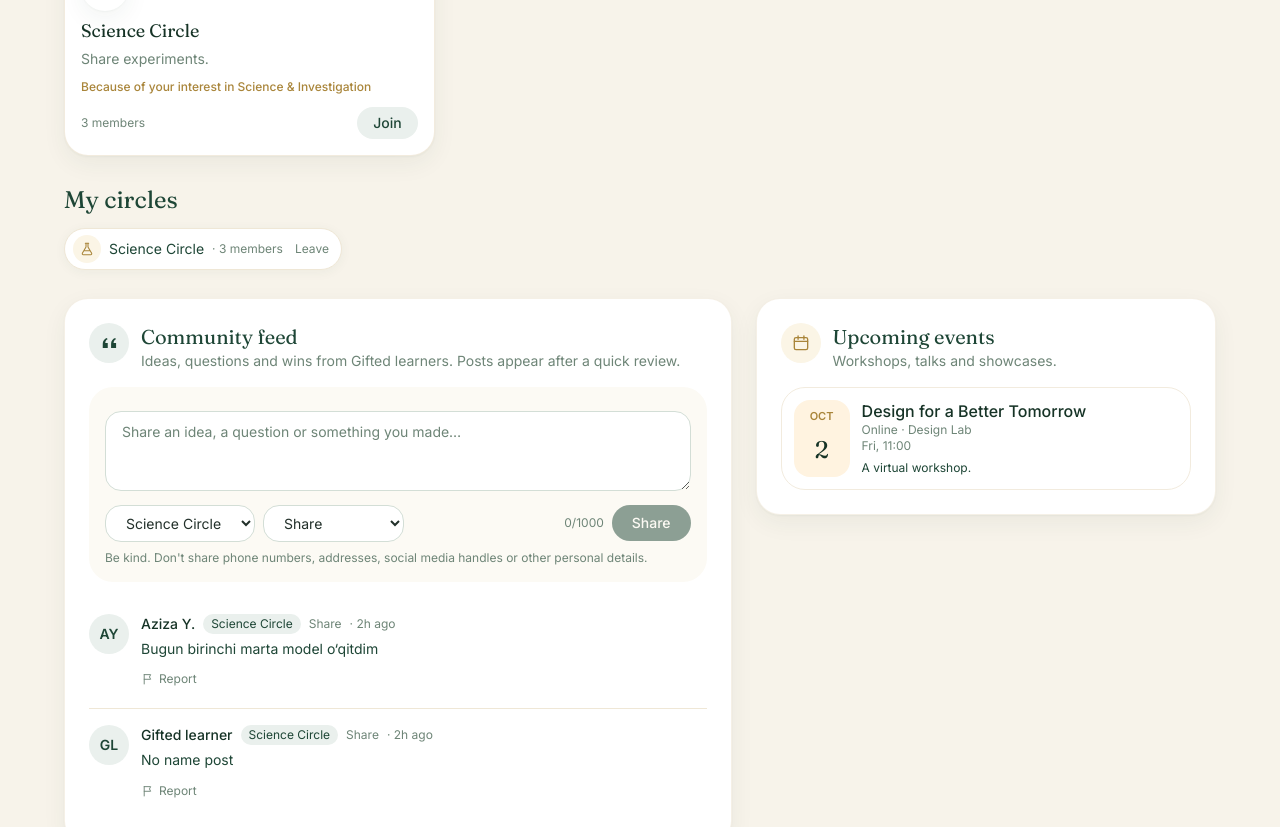
Scenario: Community › new posts wait for review; reports send a reason
This screenshot has width=1280, height=827.
(page scrolled)
Type "My idea" into the text box with placeholder "Share an idea, a question or something you made…". click: (398, 450)
box: [105,410,691,490]
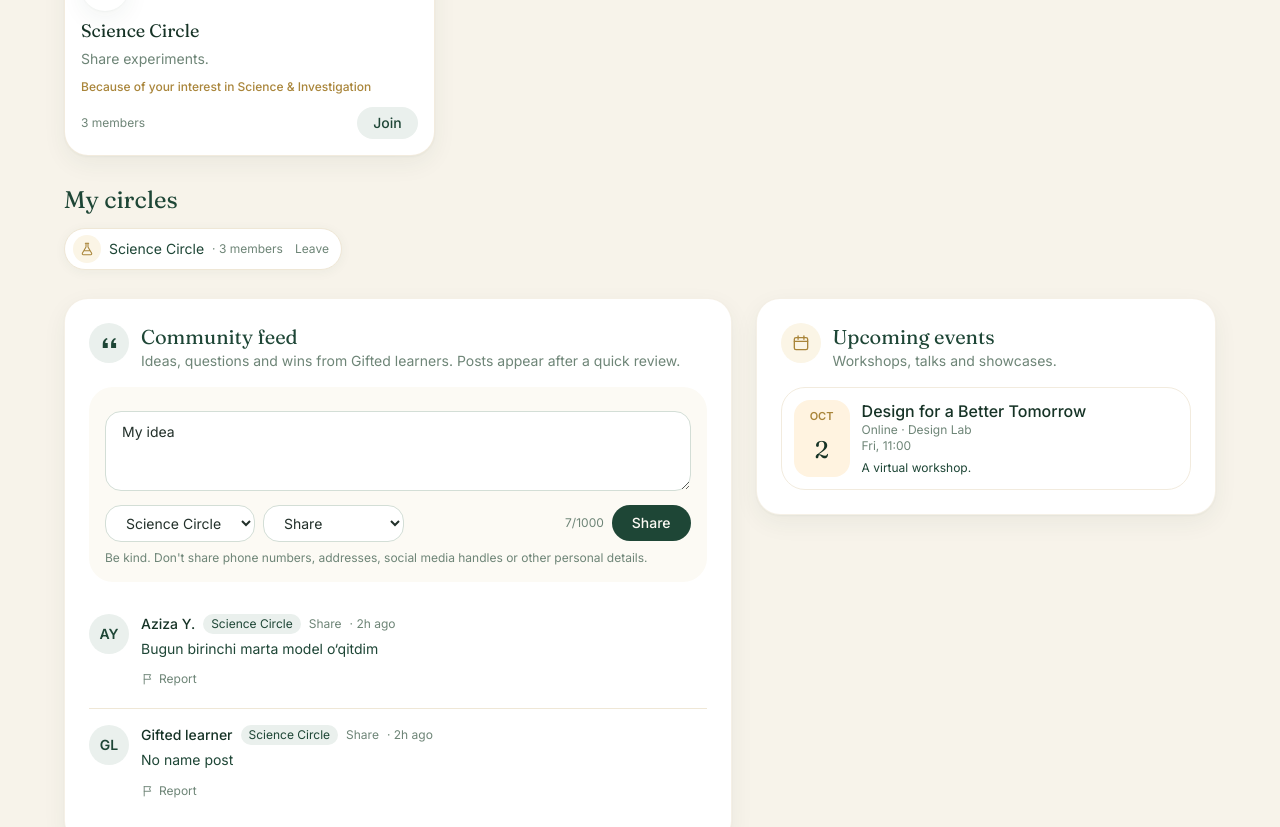
Click the button "Share". click: (651, 523)
box: [612,505,691,541]
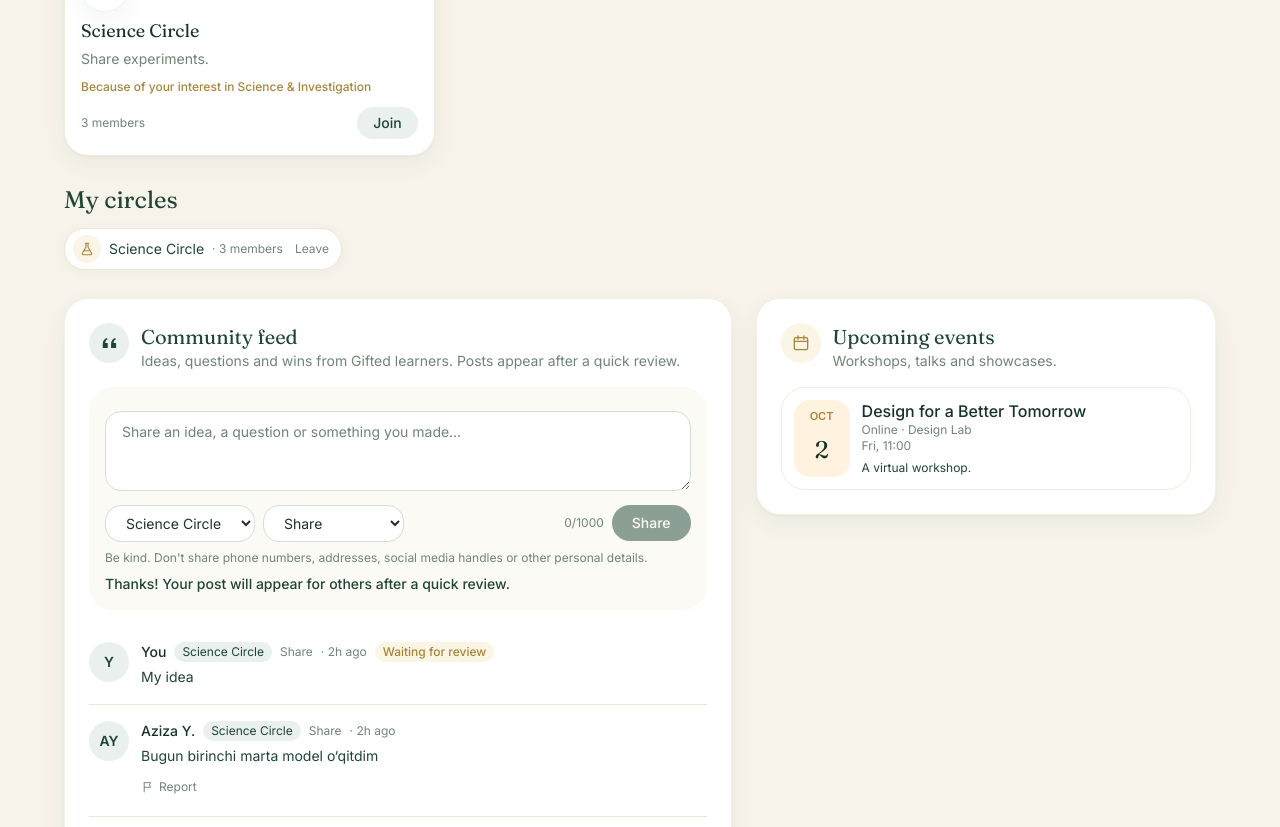
Check: the text "Waiting for review" is shown, box [375,642,494,662]
Check: the text "Thanks! Your post will appear for others after a quick review." is shown, box [105,574,510,592]
Click the button "Report" below "Bugun birinchi marta model o‘qitdim". click: (169, 787)
box: [141,779,197,795]
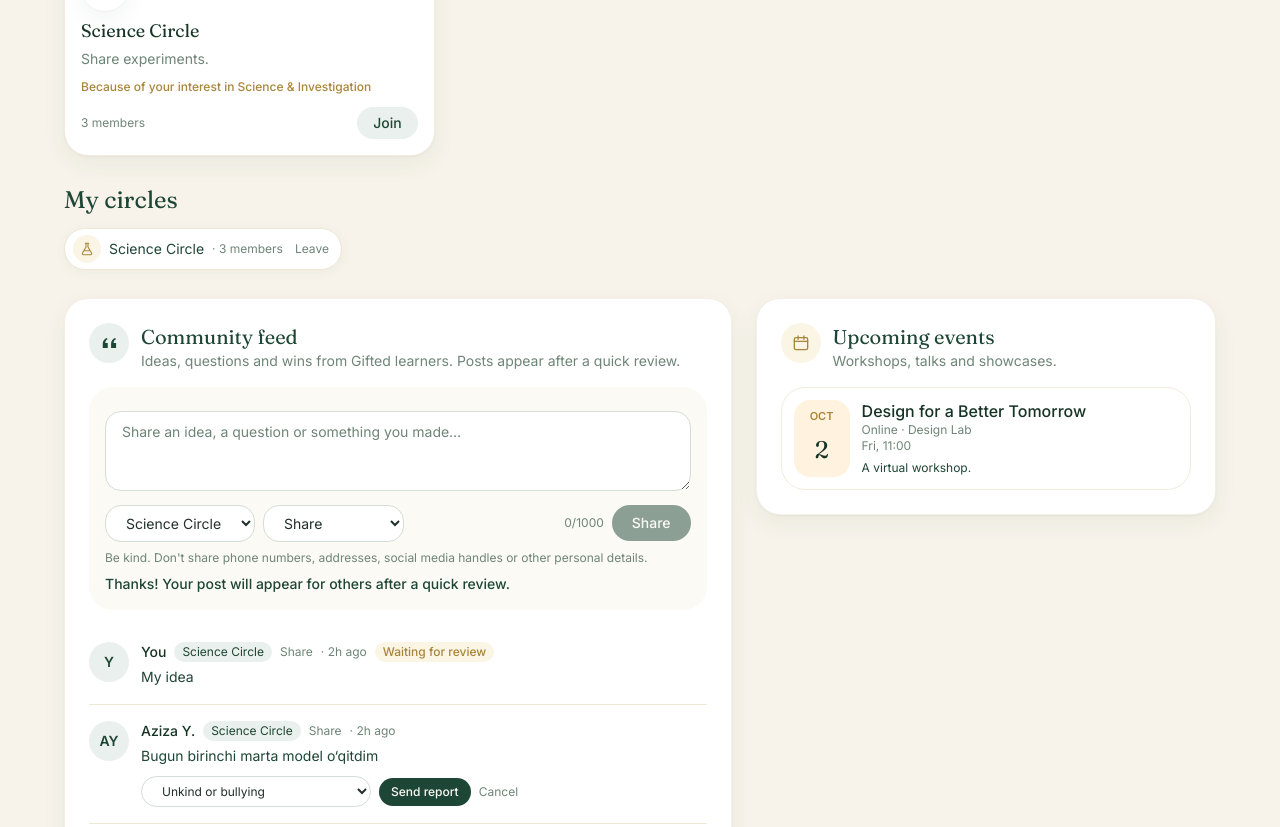
Select "Spam or advertising" in the dropdown named "Reason". click: (256, 792)
box: [141,776,371,807]
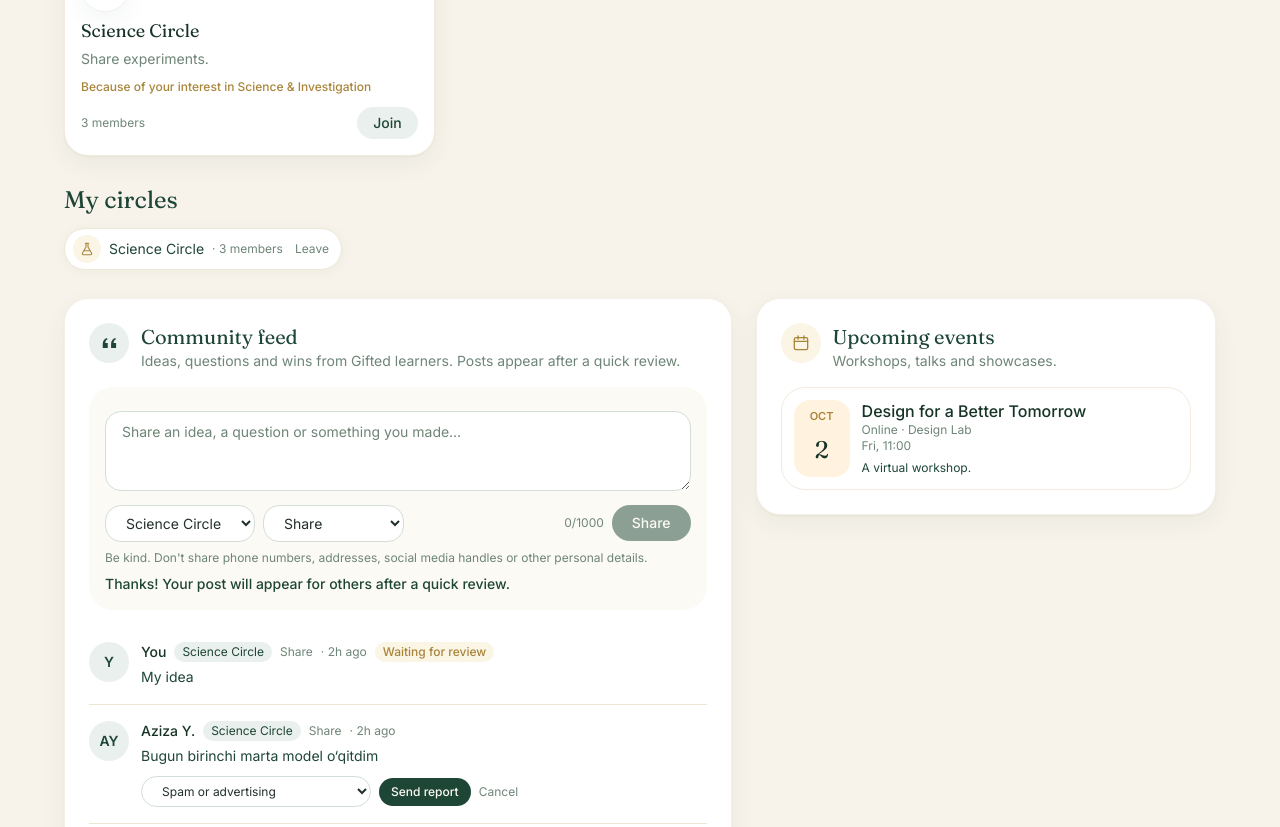
Click the button "Send report". click: (425, 792)
box: [379,778,471,806]
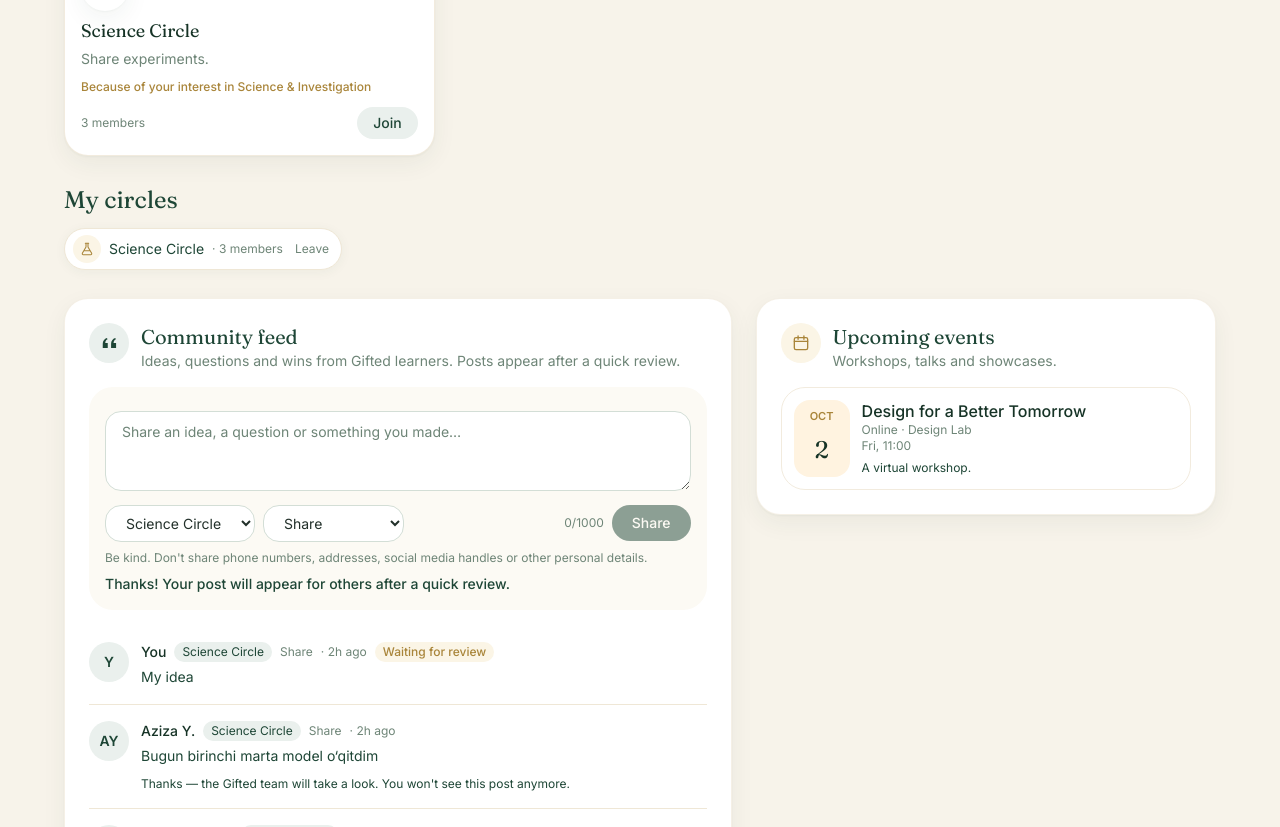
Check: the text "Thanks — the Gifted team will take a look. You won't see this post anymore." is shown, box [141,776,570,791]
